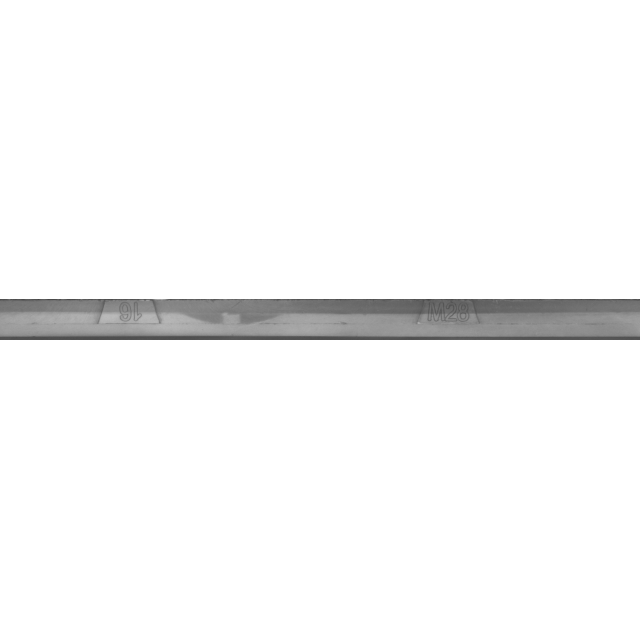mohao: (350, 270, 550, 370)
xuehao: (30, 270, 230, 370)
